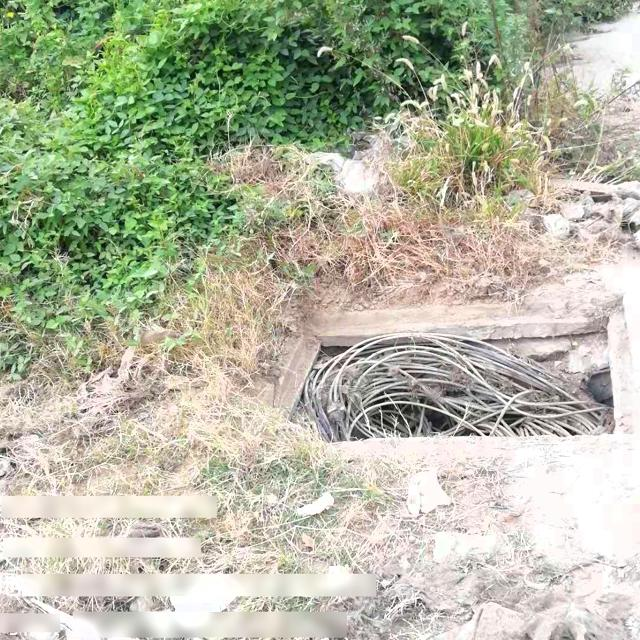lose: (263, 298, 639, 441)
